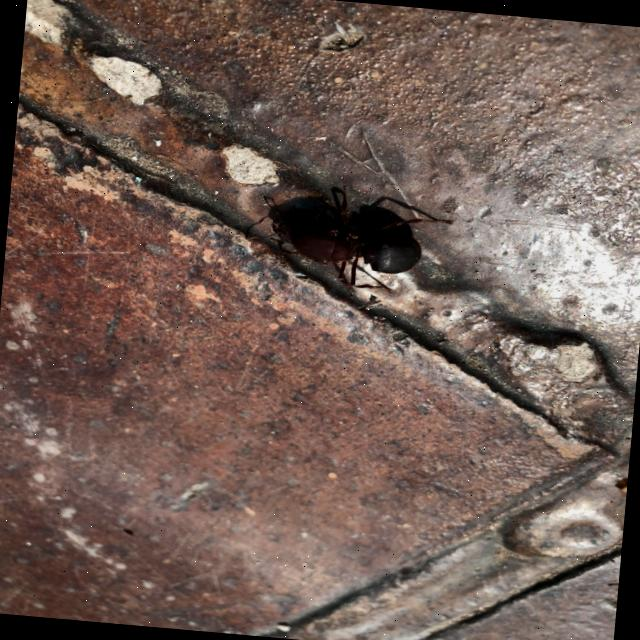Alive-Female-Dealate: (241, 177, 456, 298)
